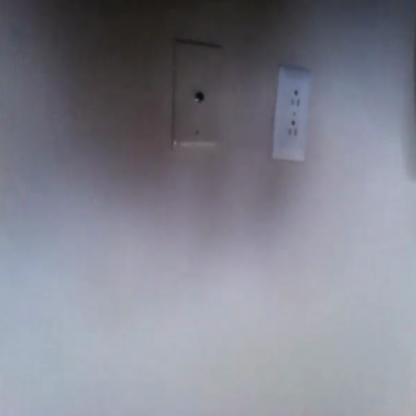OUTLET: (273, 67, 311, 160)
